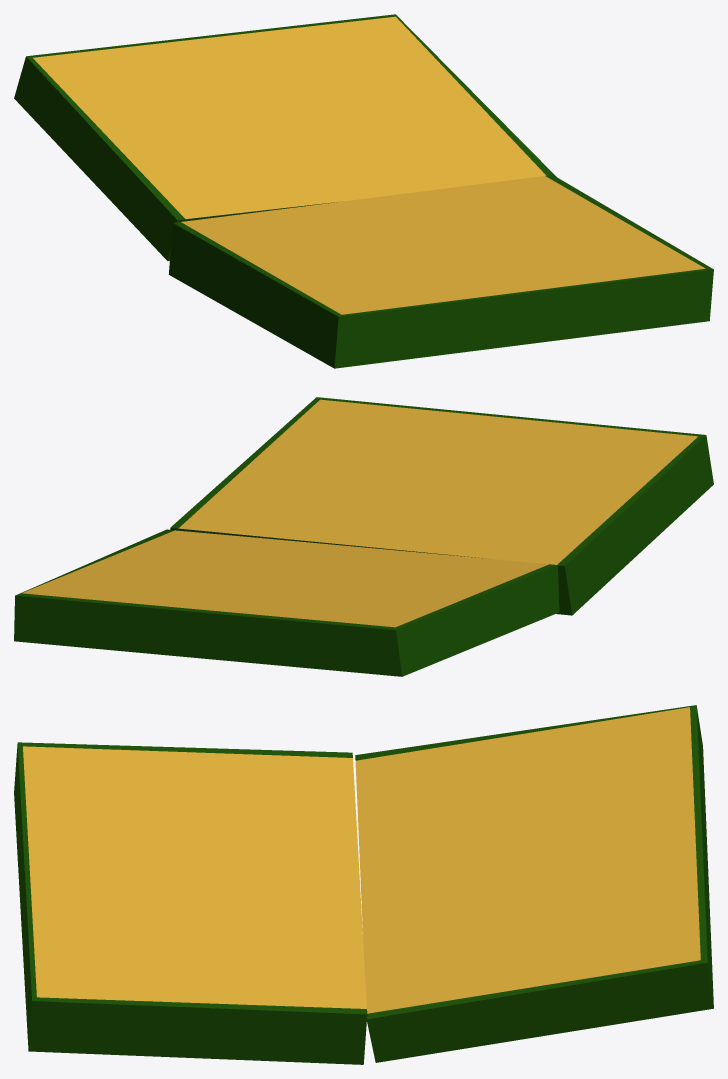
The model's file is Book.fbx.
The picture shows the model from 3 angles, top to bottom: view 1: azimuth 30°, elevation 25°; view 2: azimuth 150°, elevation 25°; view 3: azimuth 270°, elevation 25°; orthographic projection. The views are drawn at different scales.
Visible parts, largest first — view 1: Book; view 2: Book; view 3: Book.
Part boxes in pixels (x1,y1,x2,y2): Book: [14, 14, 713, 368]; Book: [14, 397, 713, 676]; Book: [14, 705, 713, 1064].
Size of the model in its own units: 24.36 by 8.67 by 33.81.
